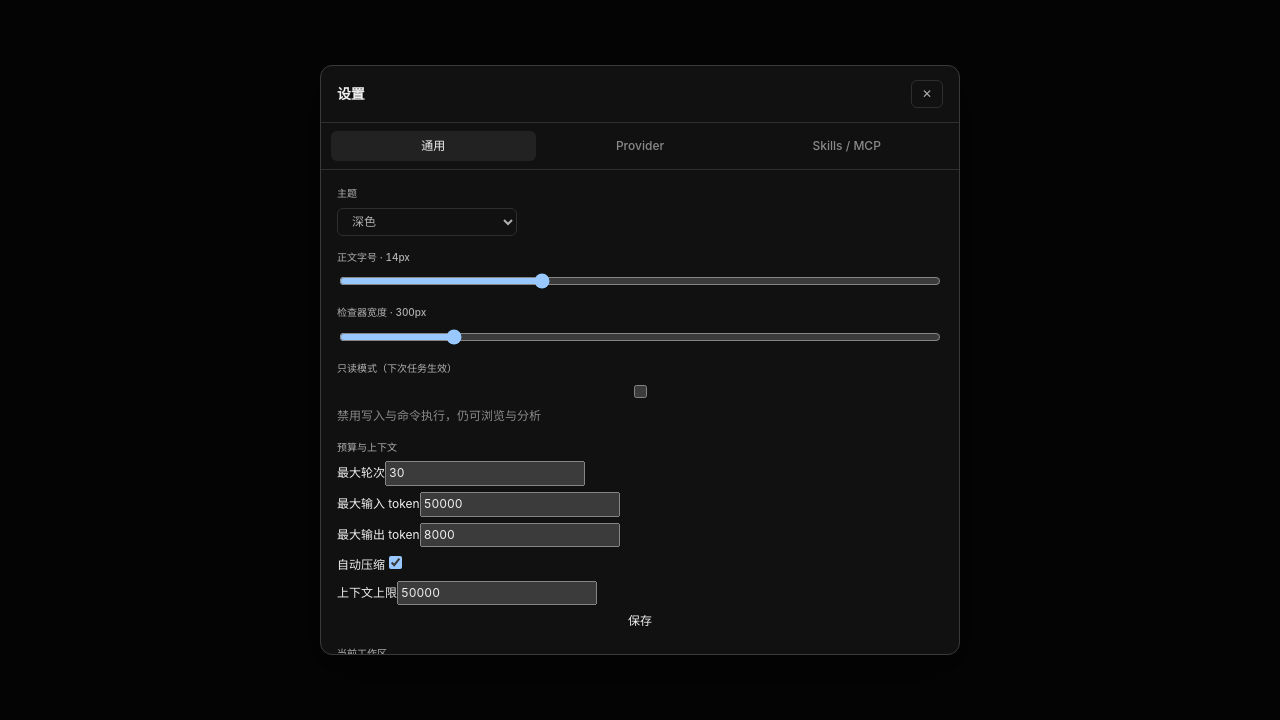
Provider 设置闭环 › 失败或仅文本探测不提供准入确认
Click the button "Provider".
click(640, 146)  # box [538,131,742,161]
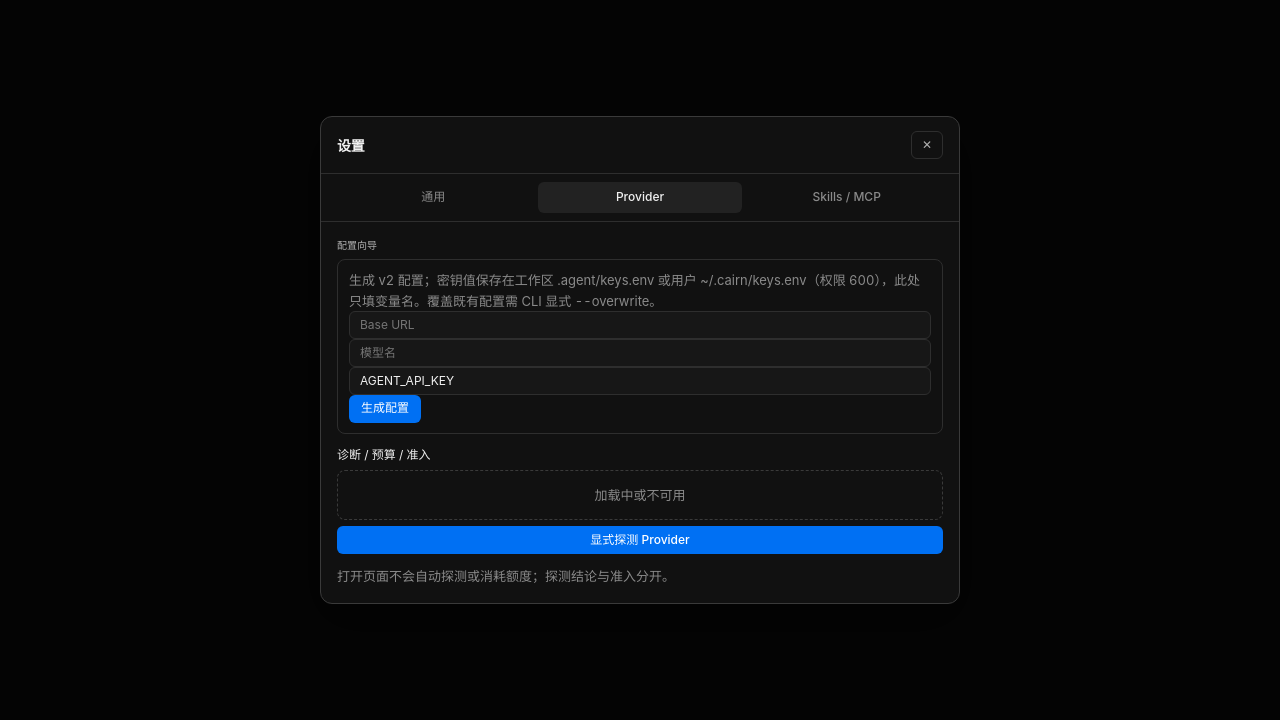
Click the button with test id "probe-provider".
click(640, 540)  # box [337,526,943,554]
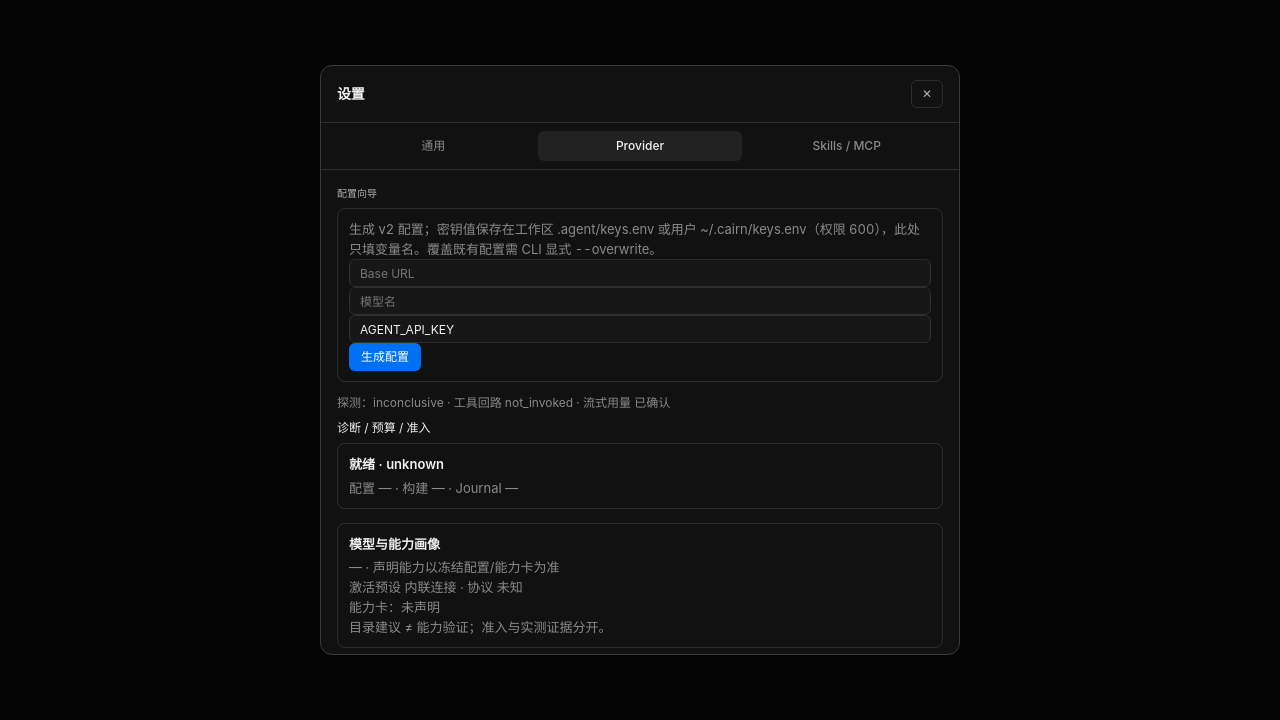
Expected: the message shows "inconclusive", [337,395,670,410]
